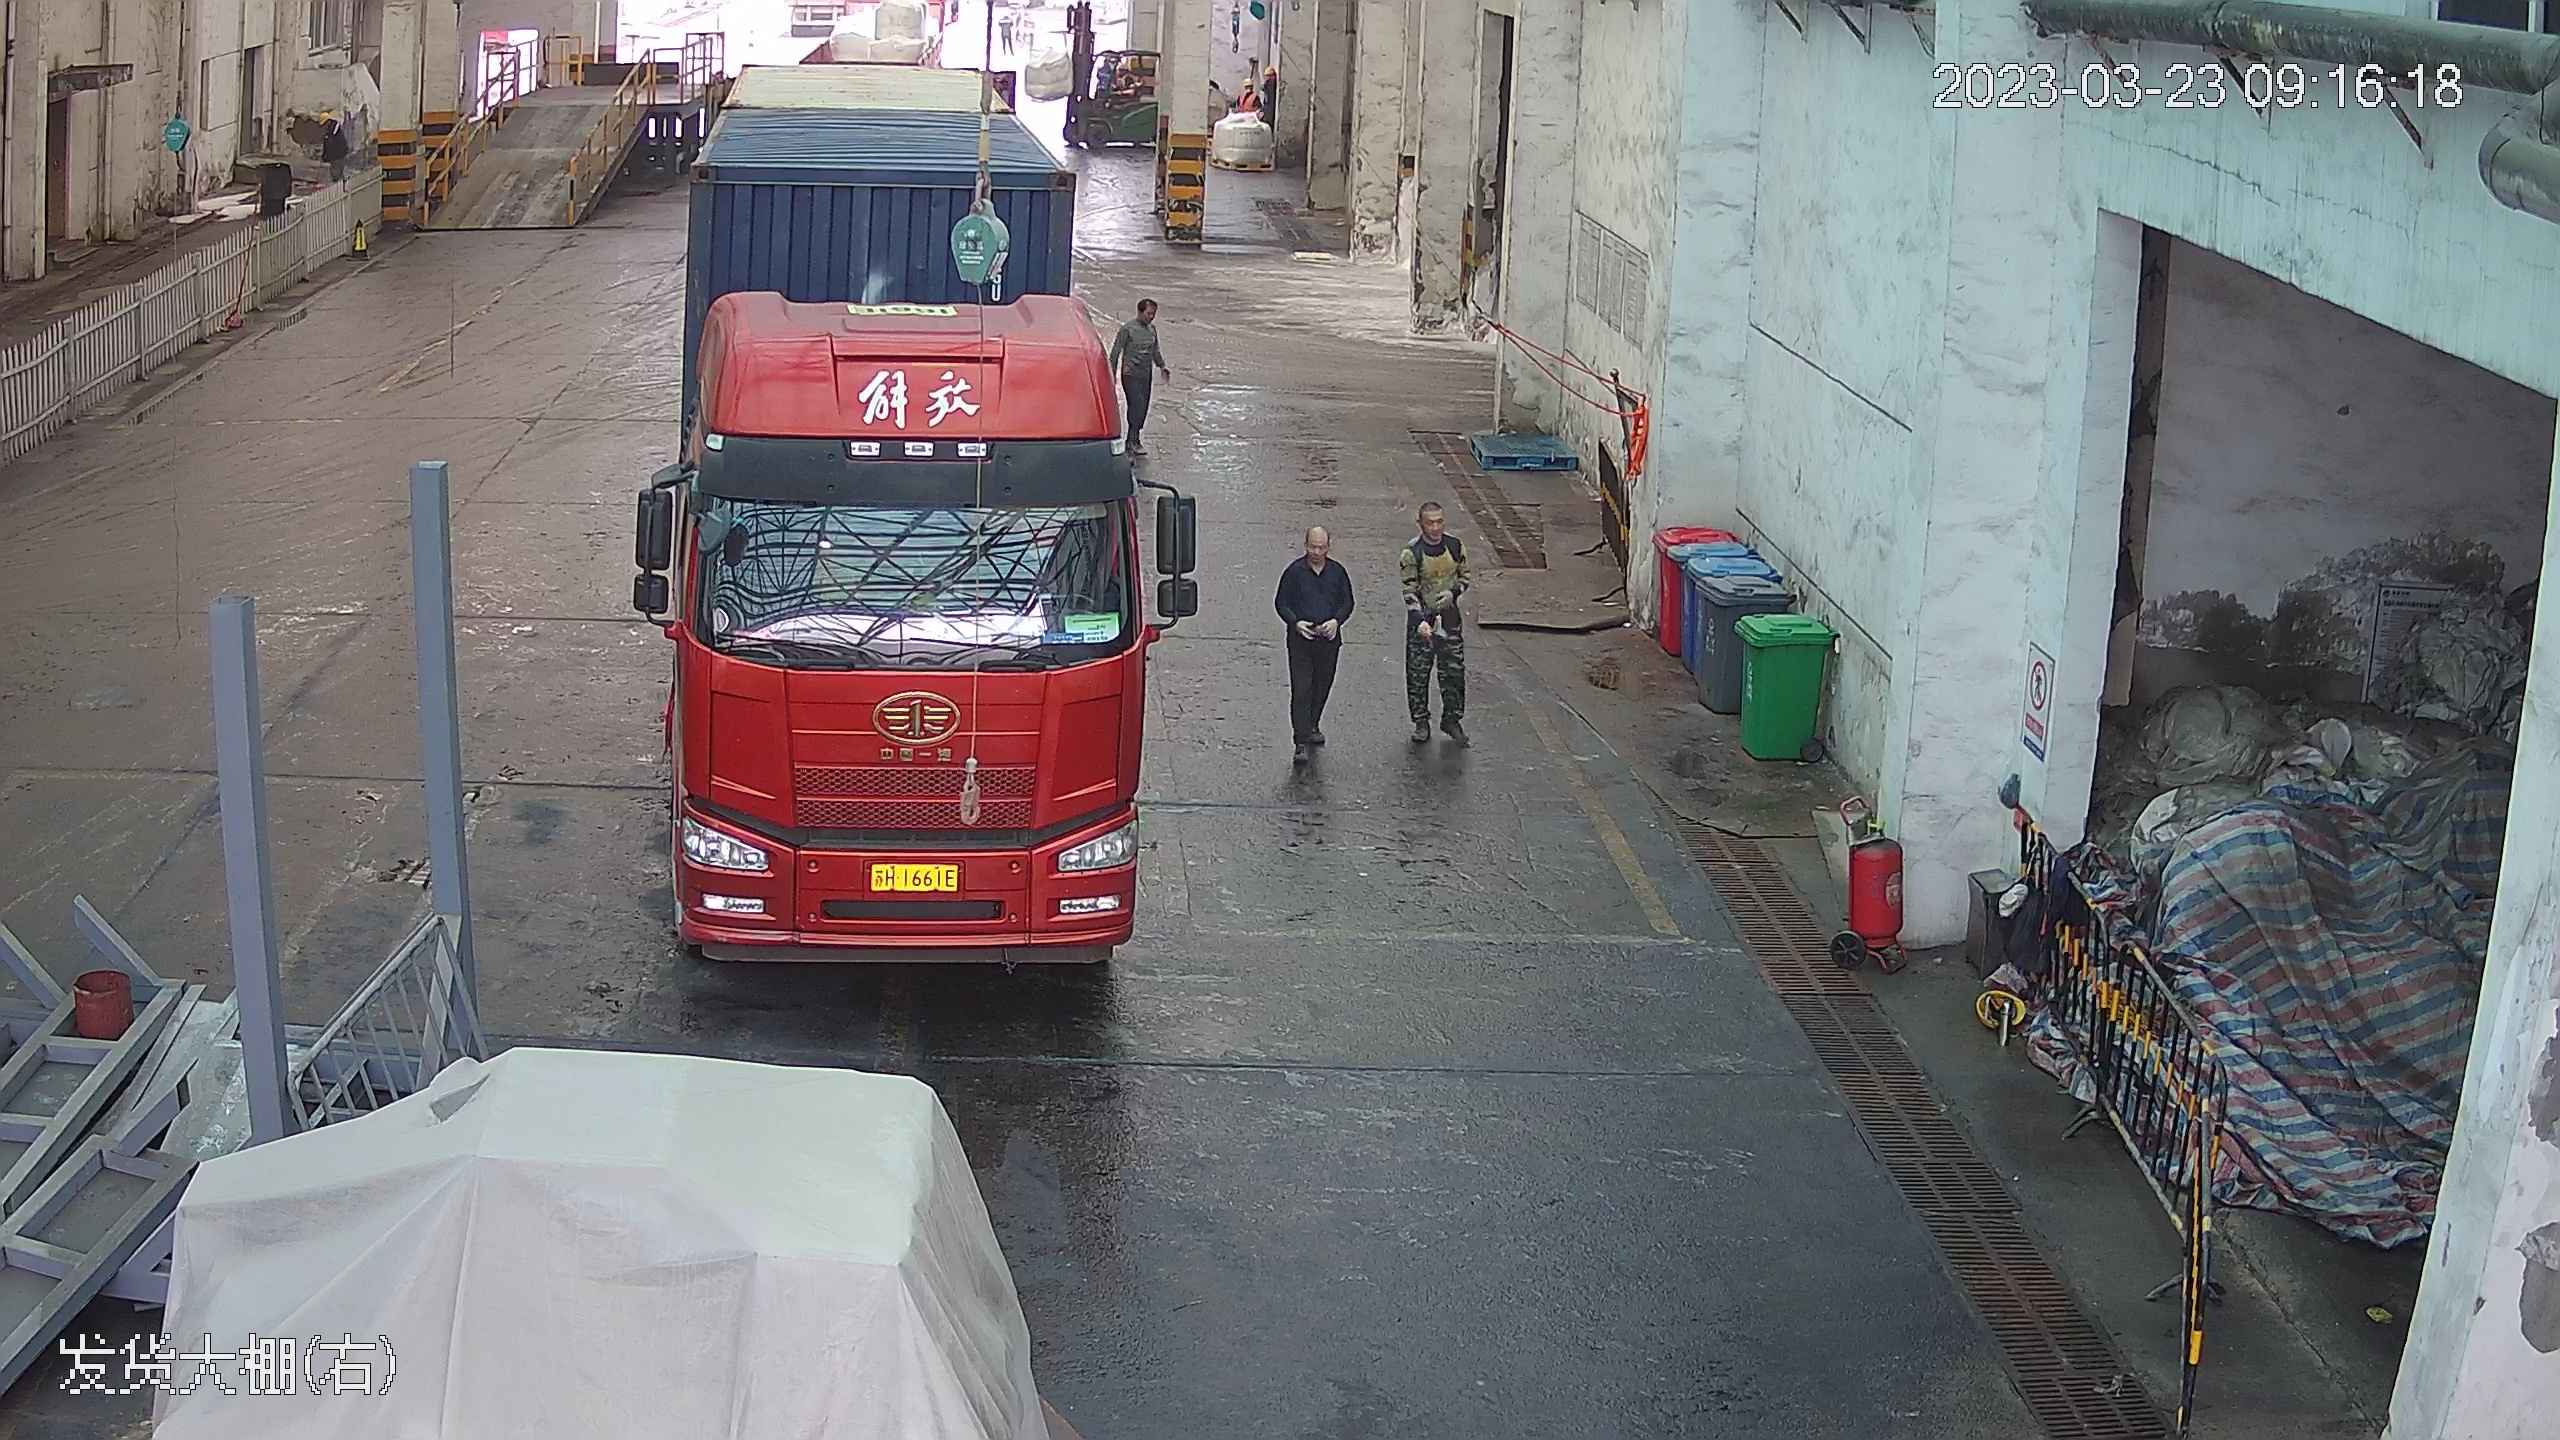head: (1278, 522, 1354, 593), (1403, 502, 1463, 578), (1120, 295, 1162, 346), (317, 111, 346, 145), (1236, 77, 1261, 107)
helmet: (318, 112, 331, 126), (1242, 78, 1254, 88), (1262, 67, 1276, 76)
people: (1275, 518, 1353, 780), (1402, 498, 1471, 759), (1121, 294, 1169, 456), (318, 110, 351, 183)
truck: (632, 25, 1168, 963)
